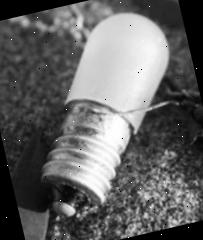lightbulb: (6, 2, 201, 221)
